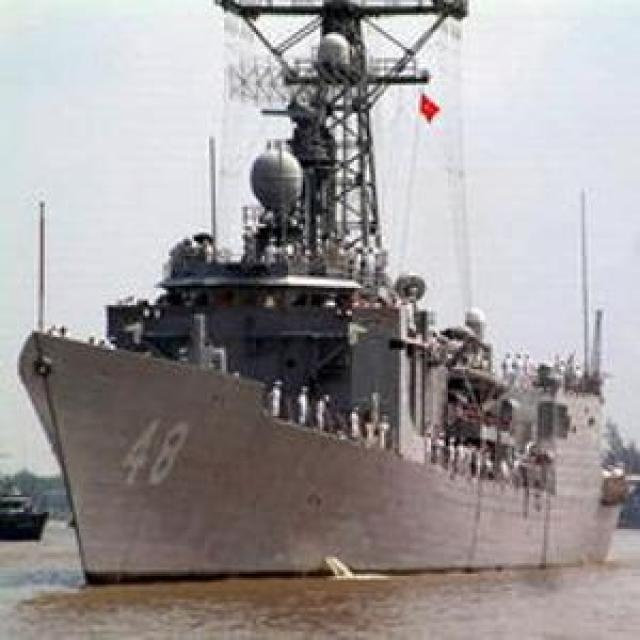navalvessels: (17, 0, 640, 591)
